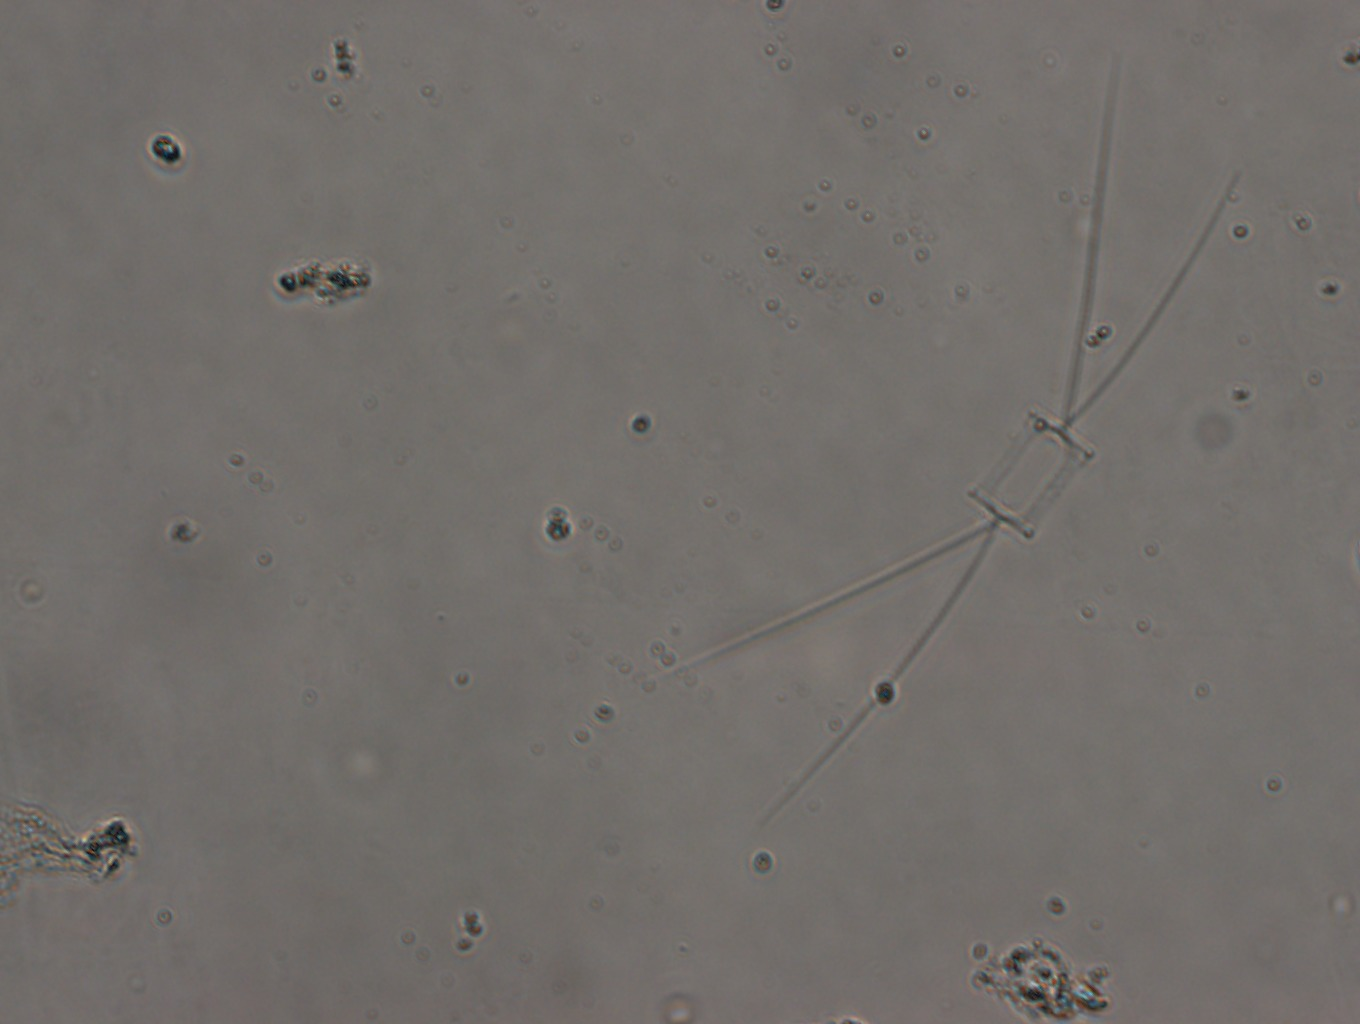chaetoceros: (665, 55, 1247, 833)
